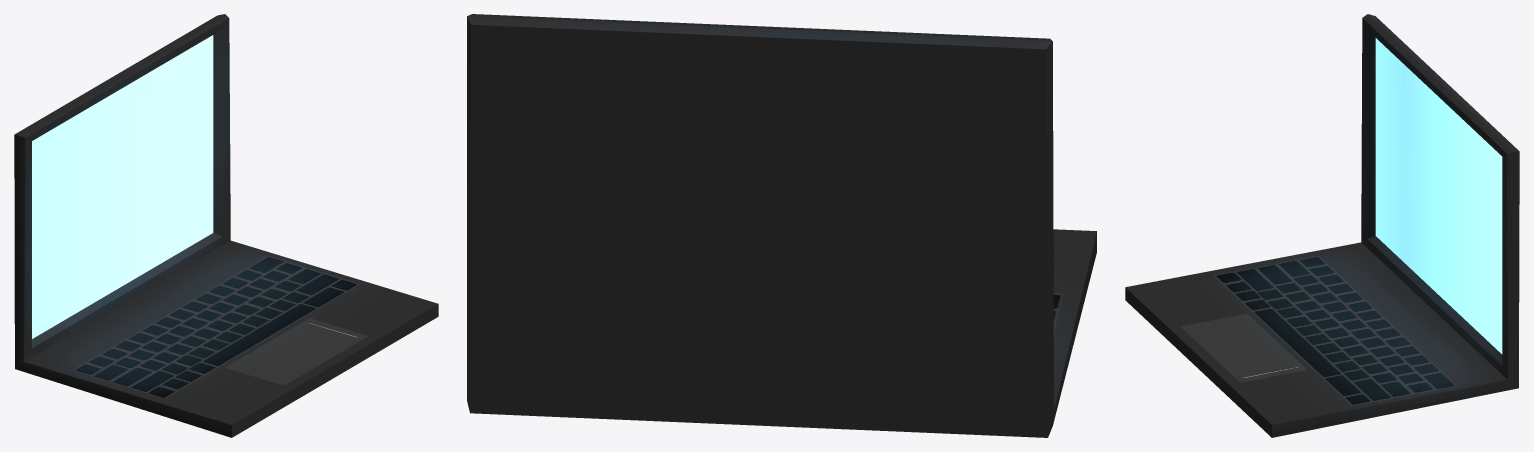
Rendered from Biblioteca_Ordenador.fbx.
3 renders of one model, left to right at view 1: azimuth 30°, elevation 25°; view 2: azimuth 150°, elevation 25°; view 3: azimuth 270°, elevation 25°, orthographic. The views are drawn at different scales.
Parts seen in each view (by area): view 1: Biblioteca_Ordenador; view 2: Biblioteca_Ordenador; view 3: Biblioteca_Ordenador.
Boxes of the visible parts, x1,y1,x2,y2 form: Biblioteca_Ordenador: (14,14,438,437); Biblioteca_Ordenador: (467,14,1096,437); Biblioteca_Ordenador: (1125,14,1519,437).
Size of the model in its own units: 51.51 by 31.36 by 46.67.
